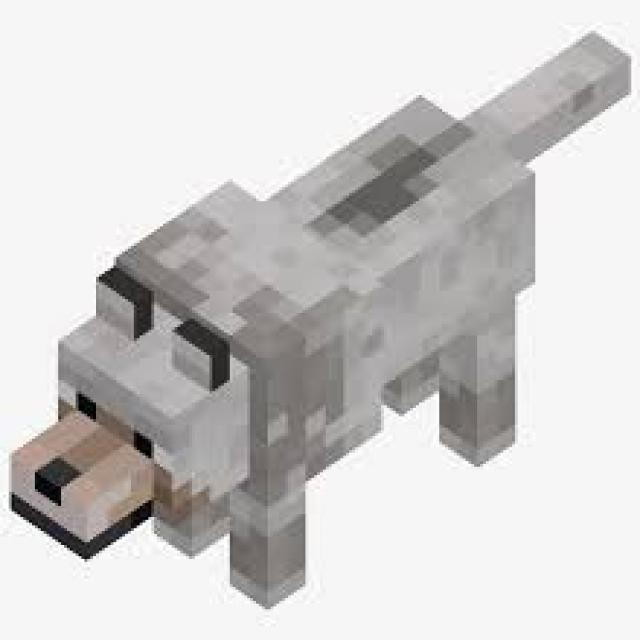Wolf: (6, 28, 634, 612)
